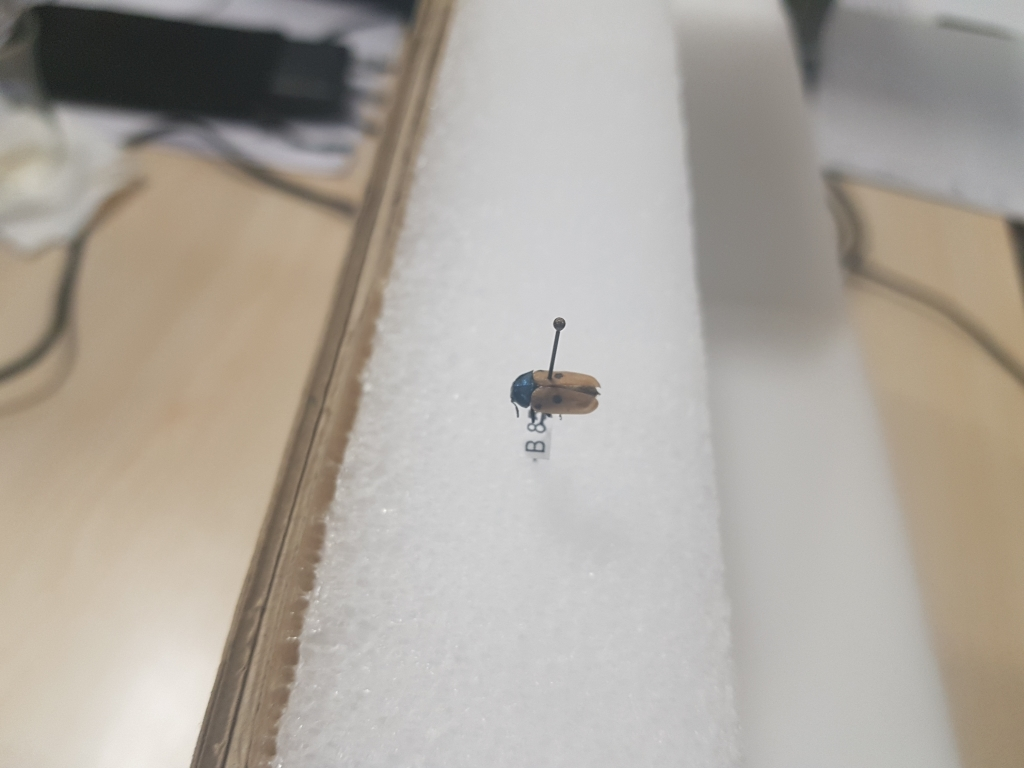Labidostomis_maculipennis: (506, 365, 605, 422)
